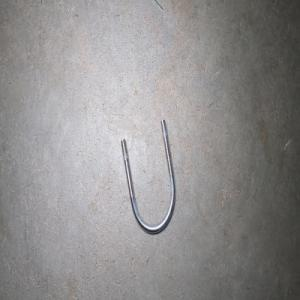ClampPart: (120, 118, 175, 235)
